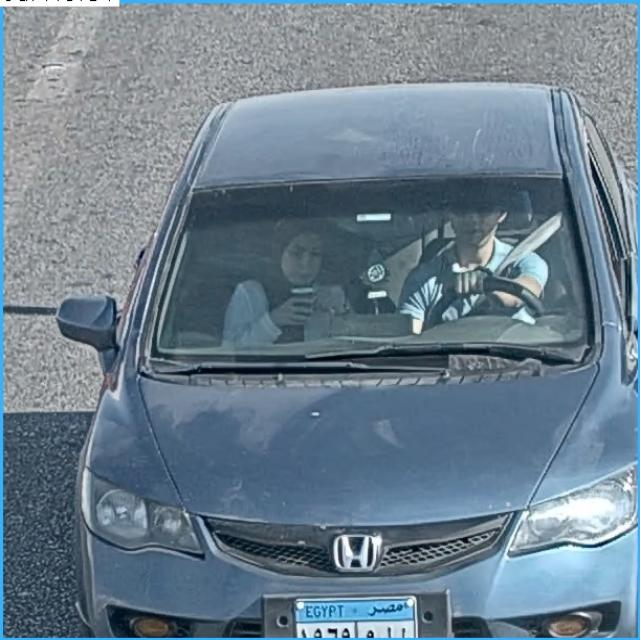windshield: (149, 187, 593, 348)
